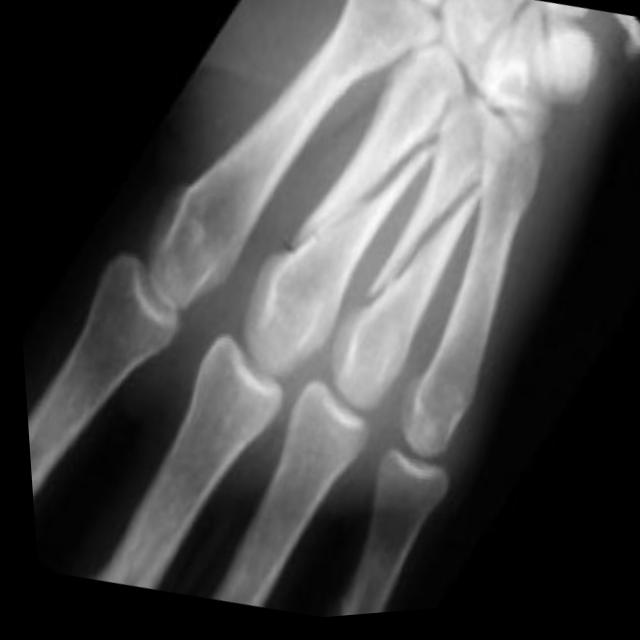fracture: (275, 89, 430, 303), (351, 160, 491, 355)
